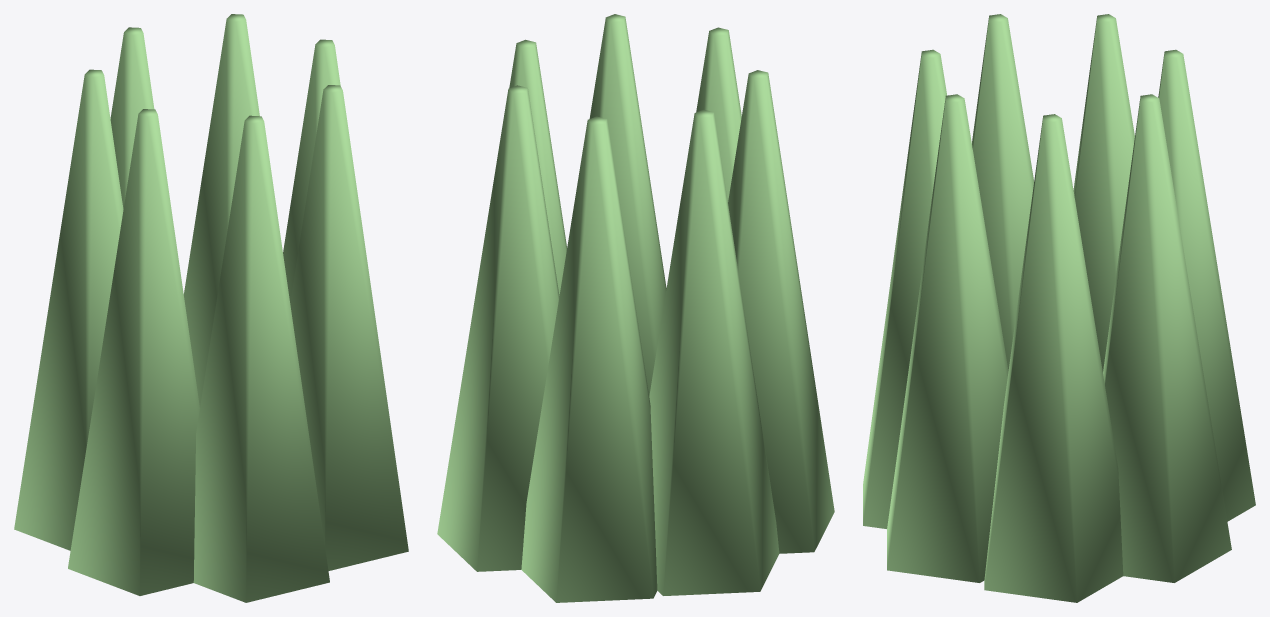
The model's file is cozy_grass_tuft_A.glb.
3 views of the same model, side by side, from view 1: azimuth 30°, elevation 25°; view 2: azimuth 150°, elevation 25°; view 3: azimuth 270°, elevation 25° (orthographic).
Parts seen in each view (by area): view 1: Blade5, Blade4, Blade6, Blade3, Blade1, Blade0, Blade2; view 2: Blade2, Blade3, Blade1, Blade4, Blade6, Blade0, Blade5; view 3: Blade0, Blade1, Blade6, Blade2, Blade5, Blade3, Blade4.
Boxes of the visible parts, x1,y1,x2,y2 form: Blade5: (193,115,329,602); Blade4: (68,109,199,595); Blade6: (290,85,408,570); Blade3: (14,69,123,550); Blade1: (183,14,259,406); Blade0: (283,39,340,302); Blade2: (110,27,154,209); Blade2: (521,116,657,602); Blade3: (649,109,779,595); Blade1: (437,85,559,571); Blade4: (728,70,834,553); Blade6: (589,14,666,395); Blade0: (509,39,566,295); Blade5: (696,27,741,201); Blade0: (984,114,1123,602); Blade1: (1103,94,1231,582); Blade6: (887,94,1008,582); Blade2: (1158,49,1255,521); Blade5: (863,49,947,528); Blade3: (1073,14,1134,371); Blade4: (972,14,1034,370).
Size of the model in its own units: 0.1901 by 0.24 by 0.1894.
